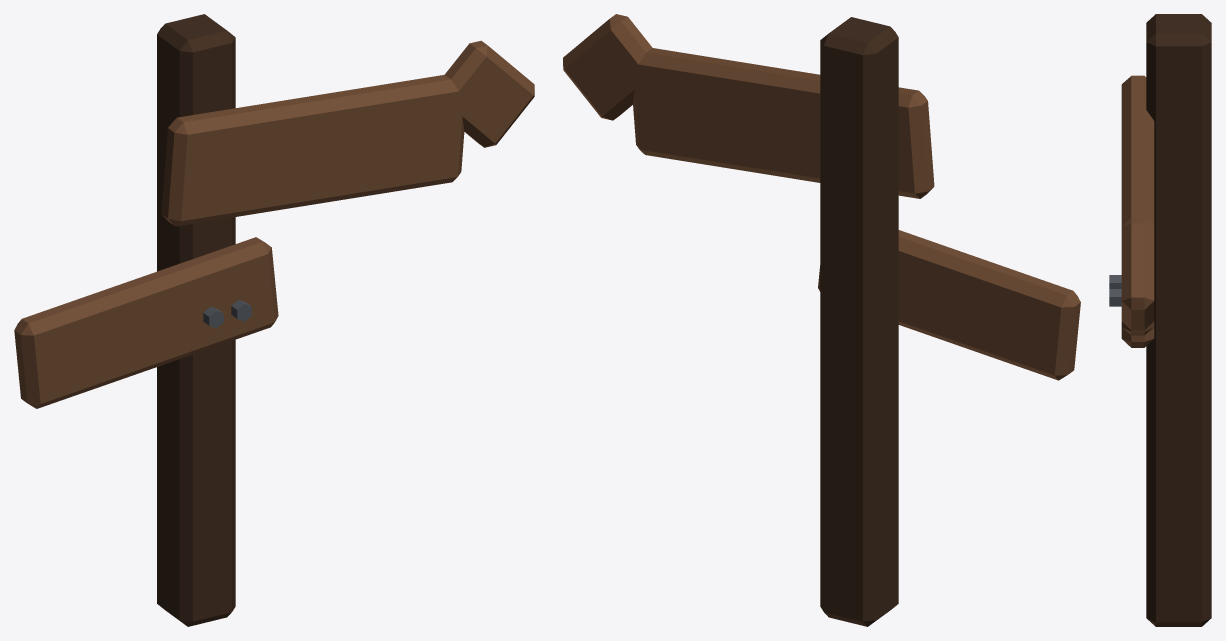
File: signpost.glb
3 renders of one model, left to right at view 1: azimuth 30°, elevation 25°; view 2: azimuth 150°, elevation 25°; view 3: azimuth 270°, elevation 25°, orthographic.
Parts seen in each view (by area): view 1: Signpost; view 2: Signpost; view 3: Signpost.
Boxes of the visible parts, x1,y1,x2,y2 form: Signpost: (14,14,534,626); Signpost: (563,14,1080,626); Signpost: (1109,14,1211,626).
Bounding box in the file's own units: 0.7332 × 0.8 × 0.125.
